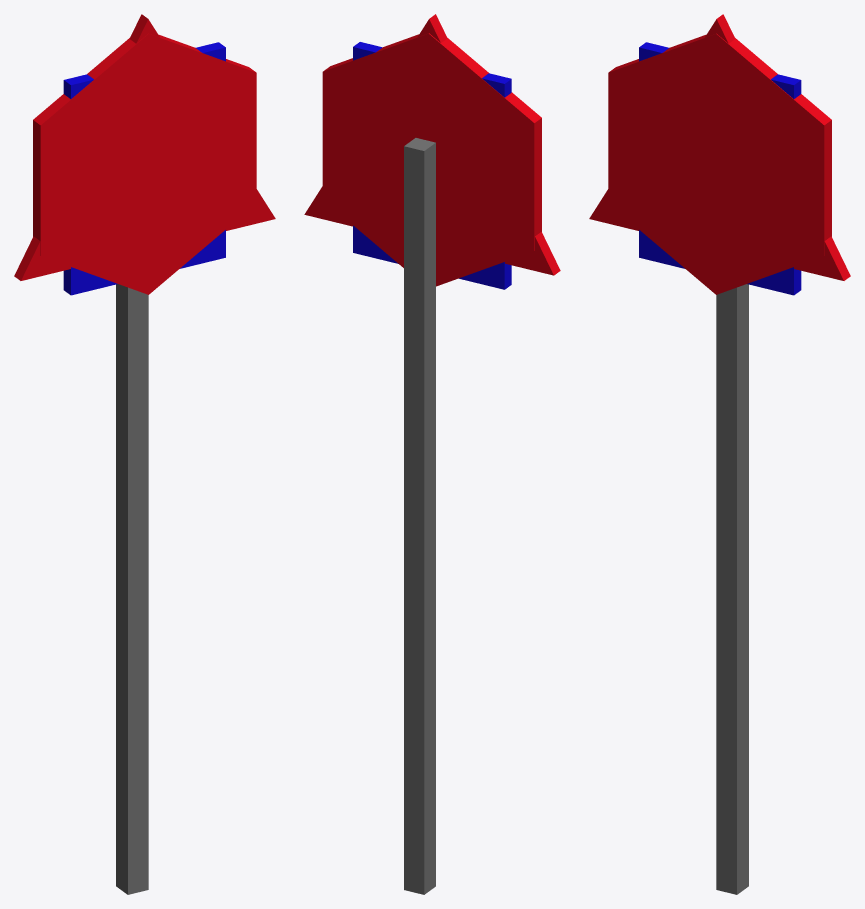
The model's file is signs.fbx.
The picture shows the model from 3 angles, left to right: view 1: azimuth 30°, elevation 25°; view 2: azimuth 150°, elevation 25°; view 3: azimuth 330°, elevation 25°; orthographic projection. The views are drawn at different scales.
Visible parts, largest first — view 1: sign1_cell.003, sign2_cell, sign3_cell.002, SIGN1, sign1_cell, sign3_cell.001, sign1_cell.001, sign3_cell, sign3_cell.003, sign2_cell.003, sign2_cell.004; view 2: SIGN1, sign1_cell, sign2_cell, SIGN3, SIGN2, sign1_cell.003, sign3_cell.002; view 3: sign1_cell.003, sign1_cell, SIGN1, sign3_cell.002, sign3_cell.001, sign2_cell, sign1_cell.002, sign2_cell.004, sign3_cell, sign3_cell.003, sign2_cell.003, SIGN2 (+1 smaller).
Part boxes in pixels (left/top/right/bottom): sign1_cell.003: left=33, top=33, right=256, bottom=294; sign2_cell: left=116, top=284, right=148, bottom=894; sign3_cell.002: left=116, top=285, right=137, bottom=894; SIGN1: left=33, top=120, right=127, bottom=894; sign1_cell: left=128, top=287, right=148, bottom=547; sign3_cell.001: left=138, top=547, right=148, bottom=891; sign1_cell.001: left=116, top=542, right=121, bottom=889; sign3_cell: left=67, top=77, right=117, bottom=295; sign3_cell.003: left=180, top=47, right=225, bottom=268; sign2_cell.003: left=21, top=242, right=70, bottom=280; sign2_cell.004: left=226, top=189, right=275, bottom=230; SIGN1: left=322, top=33, right=541, bottom=894; sign1_cell: left=424, top=144, right=435, bottom=550; sign2_cell: left=424, top=427, right=435, bottom=893; SIGN3: left=353, top=42, right=511, bottom=289; SIGN2: left=304, top=19, right=560, bottom=275; sign1_cell.003: left=323, top=33, right=541, bottom=250; sign3_cell.002: left=424, top=143, right=435, bottom=772; sign1_cell.003: left=608, top=33, right=831, bottom=294; sign1_cell: left=716, top=286, right=748, bottom=551; SIGN1: left=737, top=124, right=831, bottom=894; sign3_cell.002: left=716, top=543, right=726, bottom=892; sign3_cell.001: left=727, top=547, right=736, bottom=894; sign2_cell: left=716, top=547, right=741, bottom=894; sign1_cell.002: left=737, top=548, right=742, bottom=893; sign2_cell.004: left=794, top=236, right=850, bottom=280; sign3_cell: left=639, top=45, right=684, bottom=268; sign3_cell.003: left=747, top=79, right=793, bottom=295; sign2_cell.003: left=589, top=189, right=638, bottom=230; SIGN2: left=717, top=14, right=850, bottom=280.
Size of the model in its own units: 329 by 1086 by 50.22.
